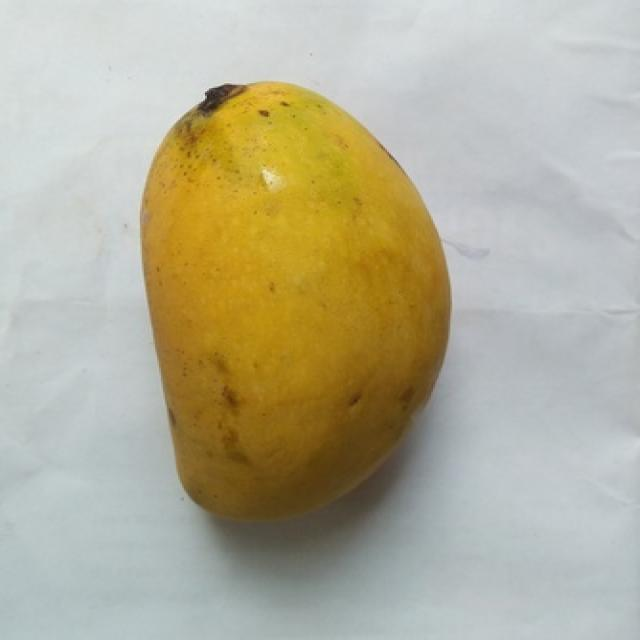Mango: (142, 82, 450, 520)
